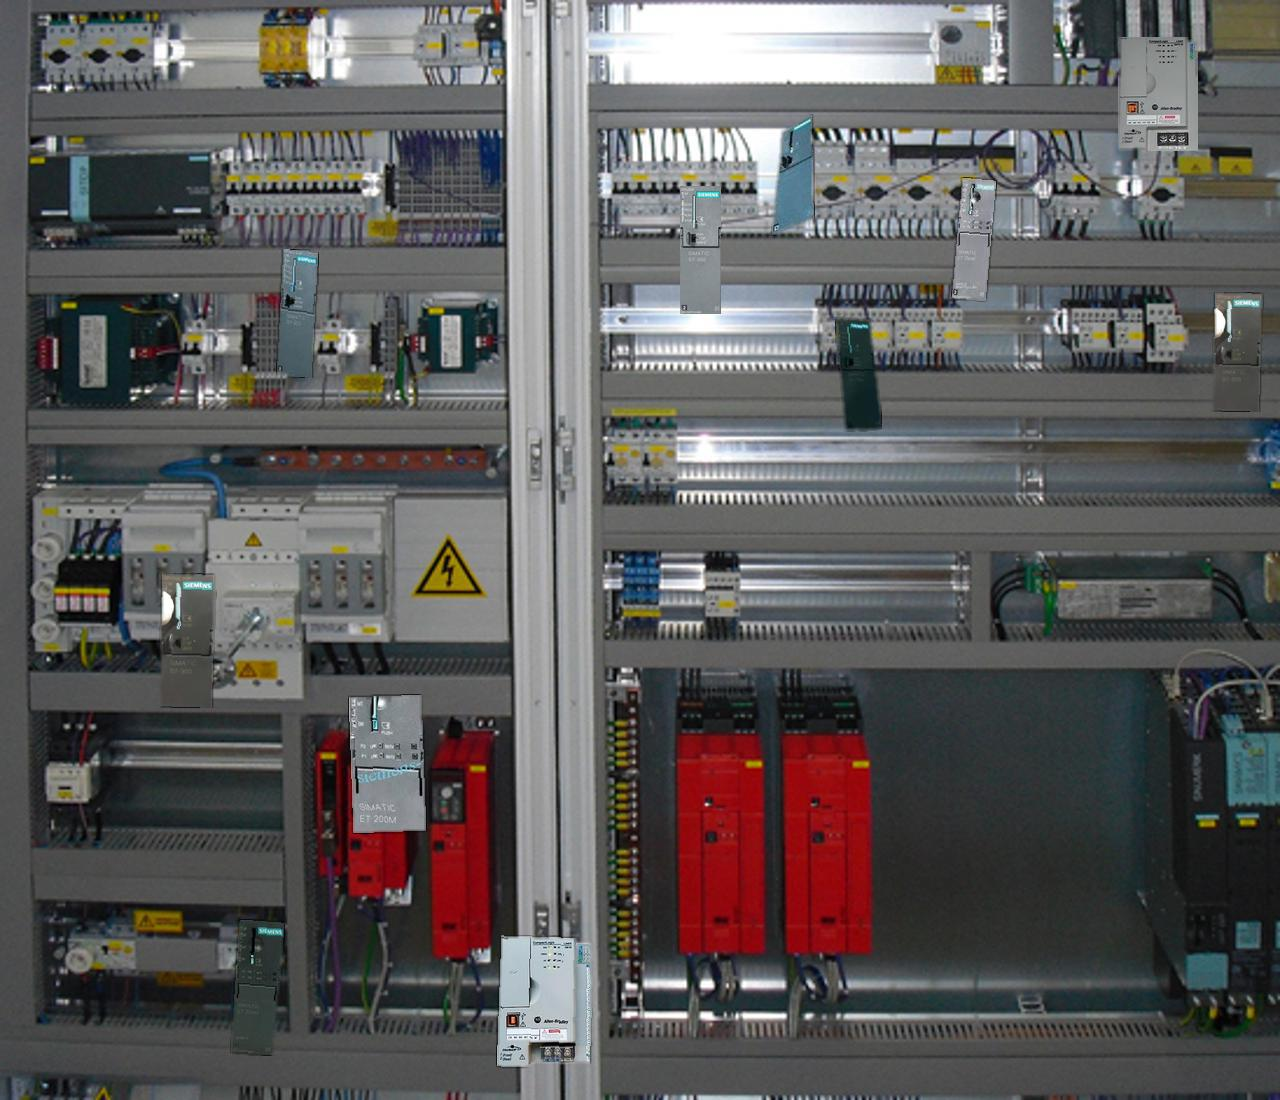AllenBradley: (497, 936, 590, 1066), (1118, 37, 1197, 150)
Siemens: (160, 574, 214, 707), (1213, 293, 1261, 411), (276, 249, 317, 376), (680, 186, 721, 313), (835, 318, 881, 429), (772, 115, 813, 234)
